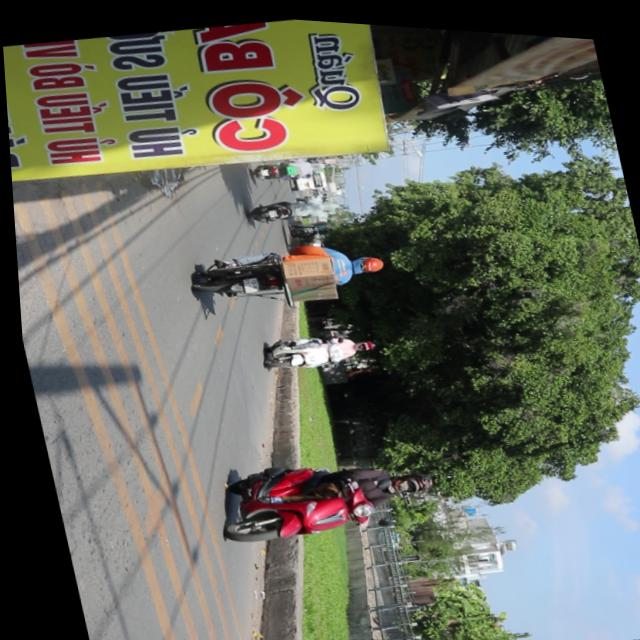helmet: (381, 466, 428, 494), (349, 249, 384, 273)
licenseplate: (201, 434, 439, 558), (183, 223, 390, 324)
nohelmet: (240, 274, 257, 291)
